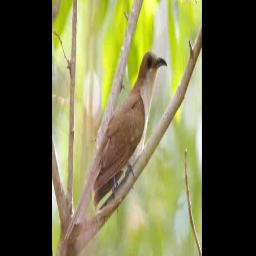Cuckoo: (93, 51, 169, 211)
